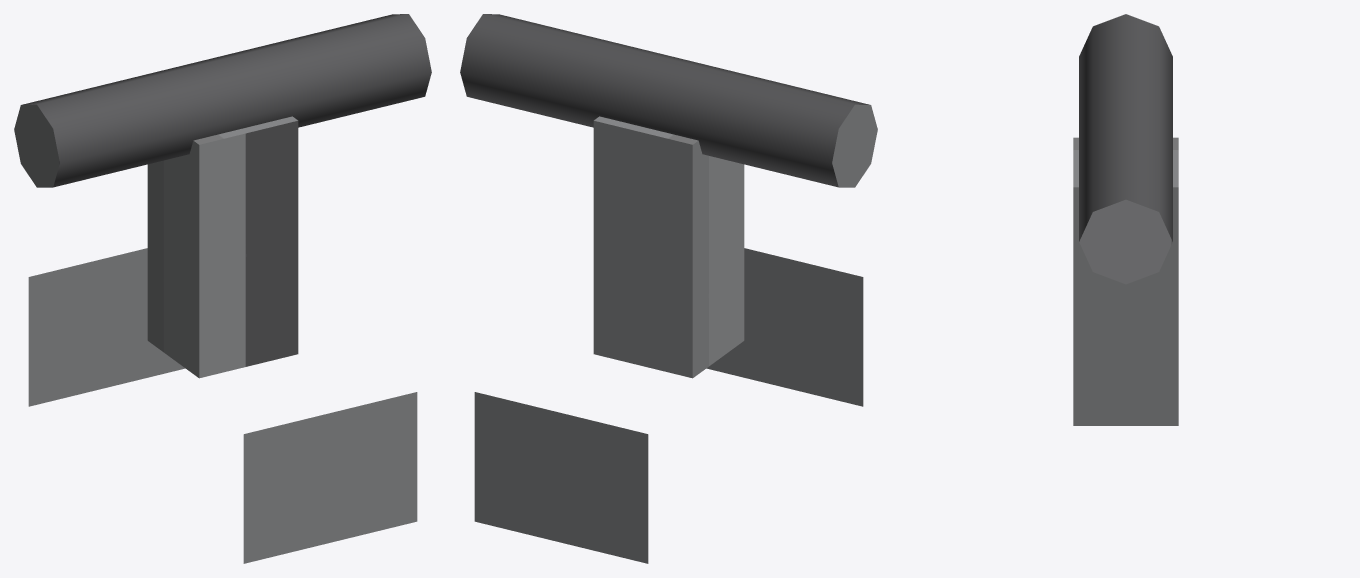
3 renders of one model, left to right at view 1: azimuth 30°, elevation 25°; view 2: azimuth 150°, elevation 25°; view 3: azimuth 270°, elevation 25°, orthographic. The views are drawn at different scales.
Size of the model in its own units: 0.069 by 0.0718 by 0.069.
